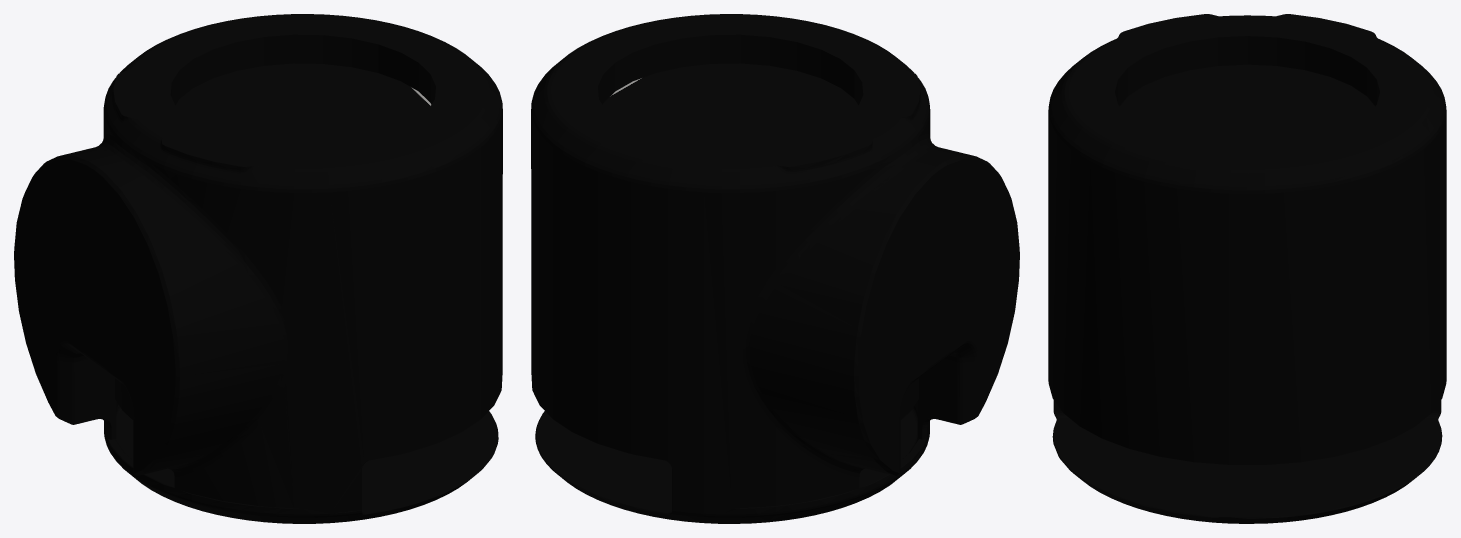
The model's file is left_arm_link4.usd.sapien.glb.
3 renders of one model, left to right at view 1: azimuth 30°, elevation 25°; view 2: azimuth 150°, elevation 25°; view 3: azimuth 270°, elevation 25°, orthographic.
Visible parts, largest first — view 1: Mesh; view 2: Mesh; view 3: Mesh.
Boxes of the visible parts, x1,y1,x2,y2 form: Mesh: (14,14,502,523); Mesh: (531,14,1019,523); Mesh: (1048,14,1446,523).
Size of the model in its own units: 0.0695 by 0.062 by 0.063.
1 material, 1 textured.
